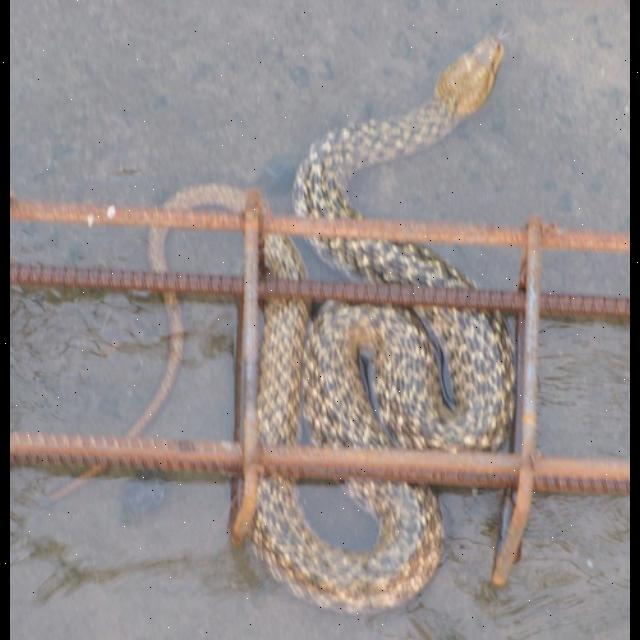snake: (132, 31, 514, 617)
